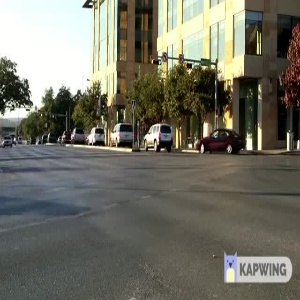car: (190, 123, 251, 159)
suv: (139, 122, 177, 153), (107, 120, 136, 151), (86, 123, 106, 147), (68, 126, 89, 147)
